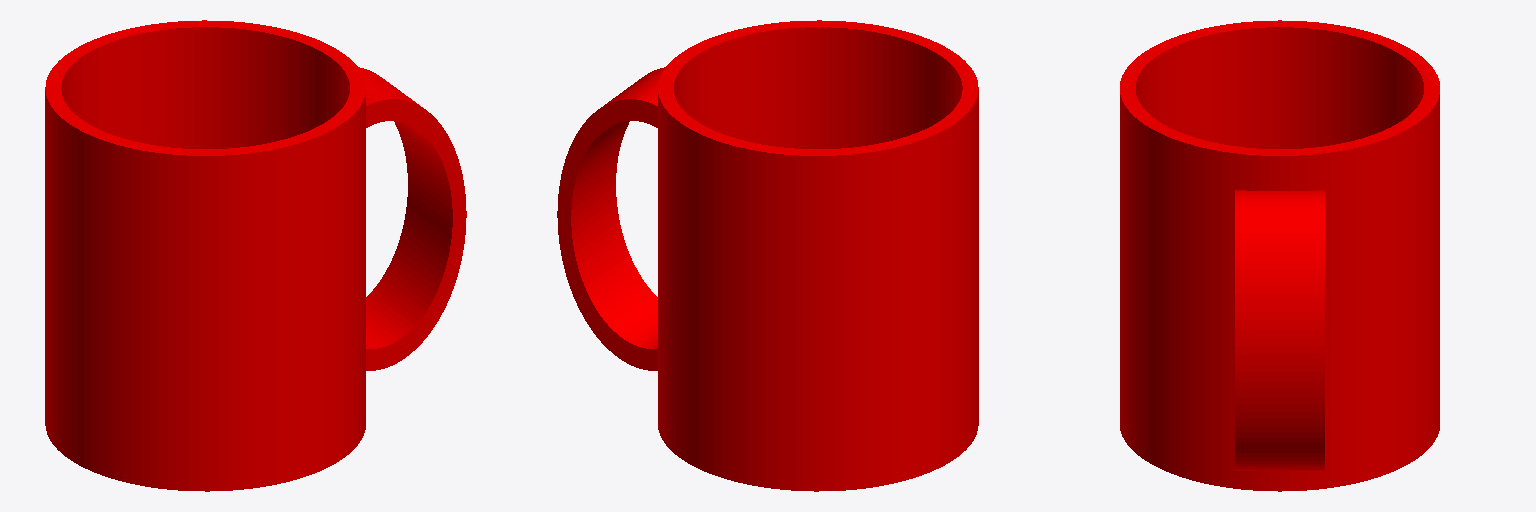
The robot description file, URDF, robot "mug.urdf":
<?xml version="1.0" ?>
<robot name="mug.urdf">
  <link name="baseLink">
    <inertial>
      <origin rpy="0 0 0" xyz="0 0 0"/>
       <mass value=".1"/>
       <inertia ixx="1" ixy="0" ixz="0" iyy="1" iyz="0" izz="1"/>
    </inertial>
    <contact>
      <lateral_friction value="1.0"/>
      <inertia_scaling value="3.0"/>
    </contact>
    <visual>
      <origin rpy="0 0 0" xyz="0 0 0"/>
      <geometry>
        <mesh filename="6.stl" scale="1 1 1" />
      </geometry>
      <material name="red">
        <color rgba="1 0 0 1"/>
      </material>
    </visual>
    <collision>
      <origin rpy="0 0 0" xyz="0 0 0"/>
      <geometry>
        <mesh filename="6_convex.obj" scale="1 1 1" />
      </geometry>
    </collision>
  </link>
</robot>

--- Facts derived from the render (not from the file) ---
3 views of the same robot in one strip: view 1: azimuth 30°, elevation 25°; view 2: azimuth 150°, elevation 25°; view 3: azimuth 270°, elevation 25° (orthographic).
Robot: mug.urdf — 1 links, 0 joints (none); root link baseLink; default pose: all joints at 0.
Visible links, largest first — view 1: baseLink; view 2: baseLink; view 3: baseLink.
Boxes of the visible links, x1=… form: baseLink: x1=45, y1=20, x2=466, y2=491; baseLink: x1=557, y1=20, x2=978, y2=491; baseLink: x1=1120, y1=20, x2=1439, y2=491.
Bounding box of the posed robot: 0.1365 × 0.1005 × 0.116 m (x, y, z).
Meshes: 1 distinct files referenced, 1 mesh visuals loaded (1 binary STL).